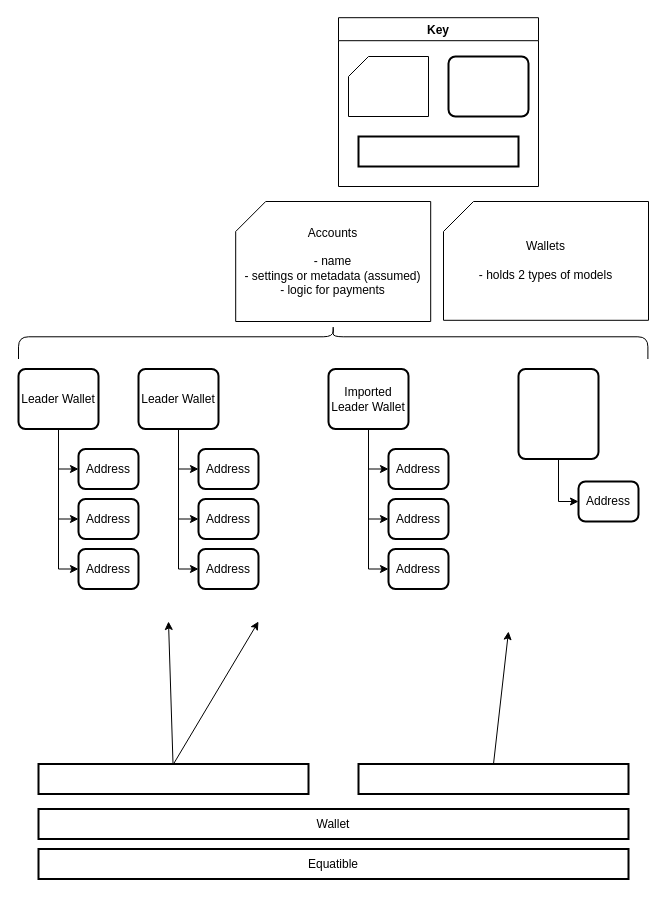
Image size: 666x897. Some labels were removed from this diagram. Here are the shapes that lost their labels. From the top down, the centre of each, then its label:
pixel 388 86: Reservoir
pixel 488 86: Model & Record
pixel 438 151: Class
pixel 558 414: Imported wif Wallet Private key Public key
pixel 173 778: LeaderWallet
pixel 493 778: ImportedPrivateKeyWallet
